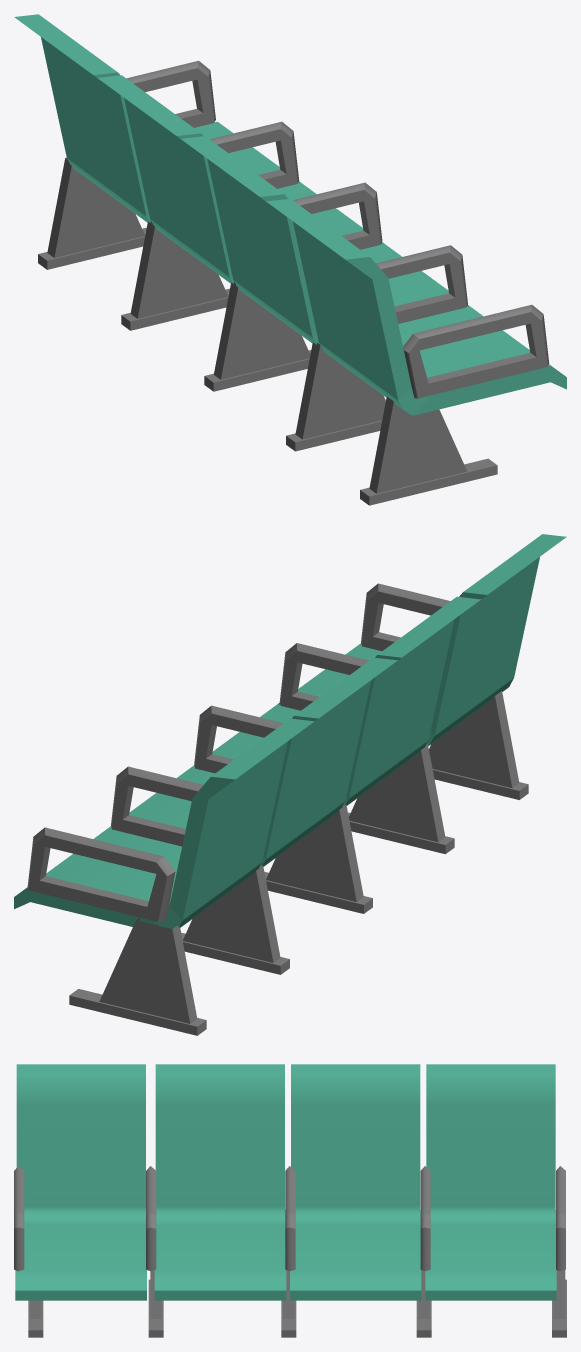
Rendered from SM_Waiting_Room_Chairs2.fbx.
The picture shows the model from 3 angles, top to bottom: view 1: azimuth 30°, elevation 25°; view 2: azimuth 150°, elevation 25°; view 3: azimuth 270°, elevation 25°; orthographic projection. The views are drawn at different scales.
Visible parts, largest first — view 1: SM_Waiting_Room_Chairs2; view 2: SM_Waiting_Room_Chairs2; view 3: SM_Waiting_Room_Chairs2.
Part boxes in pixels (x1,y1,x2,y2): SM_Waiting_Room_Chairs2: [14, 14, 566, 505]; SM_Waiting_Room_Chairs2: [14, 534, 566, 1035]; SM_Waiting_Room_Chairs2: [14, 1064, 566, 1337].
Size of the model in its own units: 87.39 by 97.93 by 233.
Materials: 1 (1 with a texture image).
